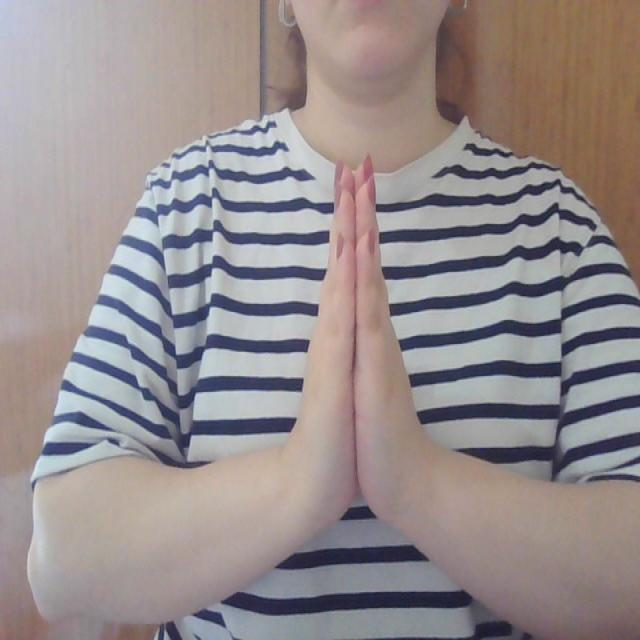Ozur-Dilemek: (284, 144, 440, 544)
